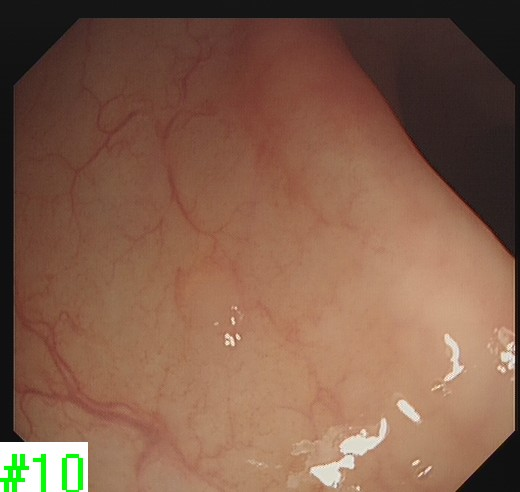others: (171, 255, 239, 332)
